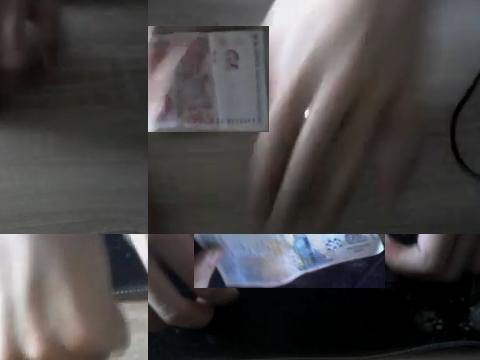20leva: (194, 234, 385, 288)
5leva: (148, 26, 269, 132)
